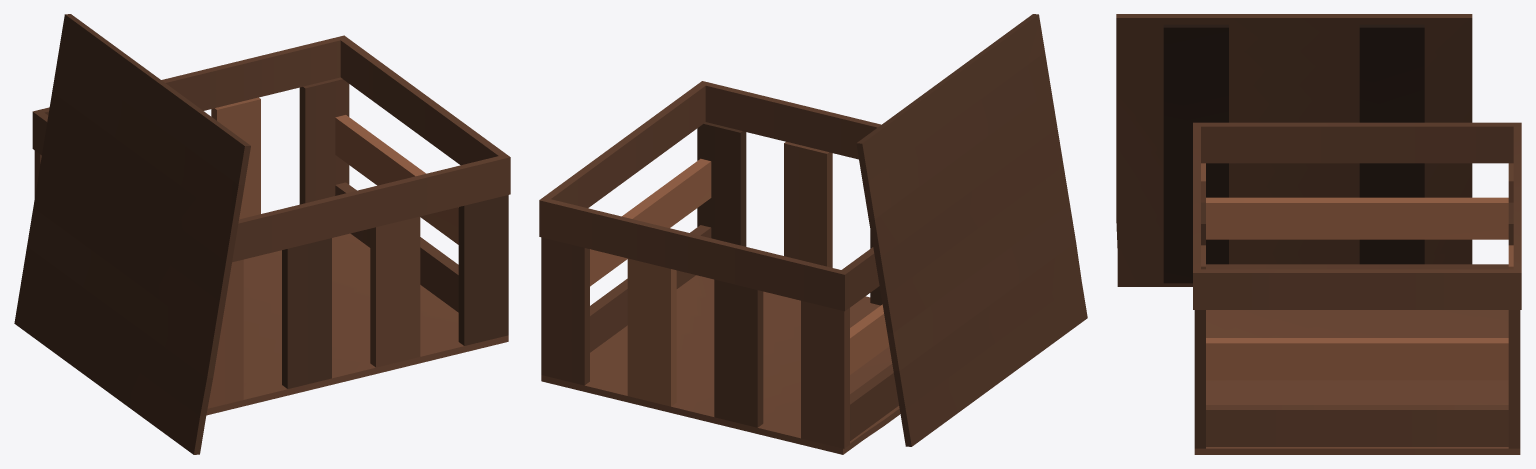
The model's file is Med Cherry Crate Leaned Lid.fbx.
The picture shows the model from 3 angles, left to right: view 1: azimuth 30°, elevation 25°; view 2: azimuth 150°, elevation 25°; view 3: azimuth 270°, elevation 25°; orthographic projection.
Parts seen in each view (by area): view 1: Med Cherry Crate Leaned Lid; view 2: Med Cherry Crate Leaned Lid; view 3: Med Cherry Crate Leaned Lid.
Boxes of the visible parts, x1,y1,x2,y2 form: Med Cherry Crate Leaned Lid: [14, 14, 510, 454]; Med Cherry Crate Leaned Lid: [539, 14, 1087, 454]; Med Cherry Crate Leaned Lid: [1116, 14, 1521, 454].
Size of the model in its own units: 190 by 237 by 236.
Materials: 1 (1 with a texture image).
